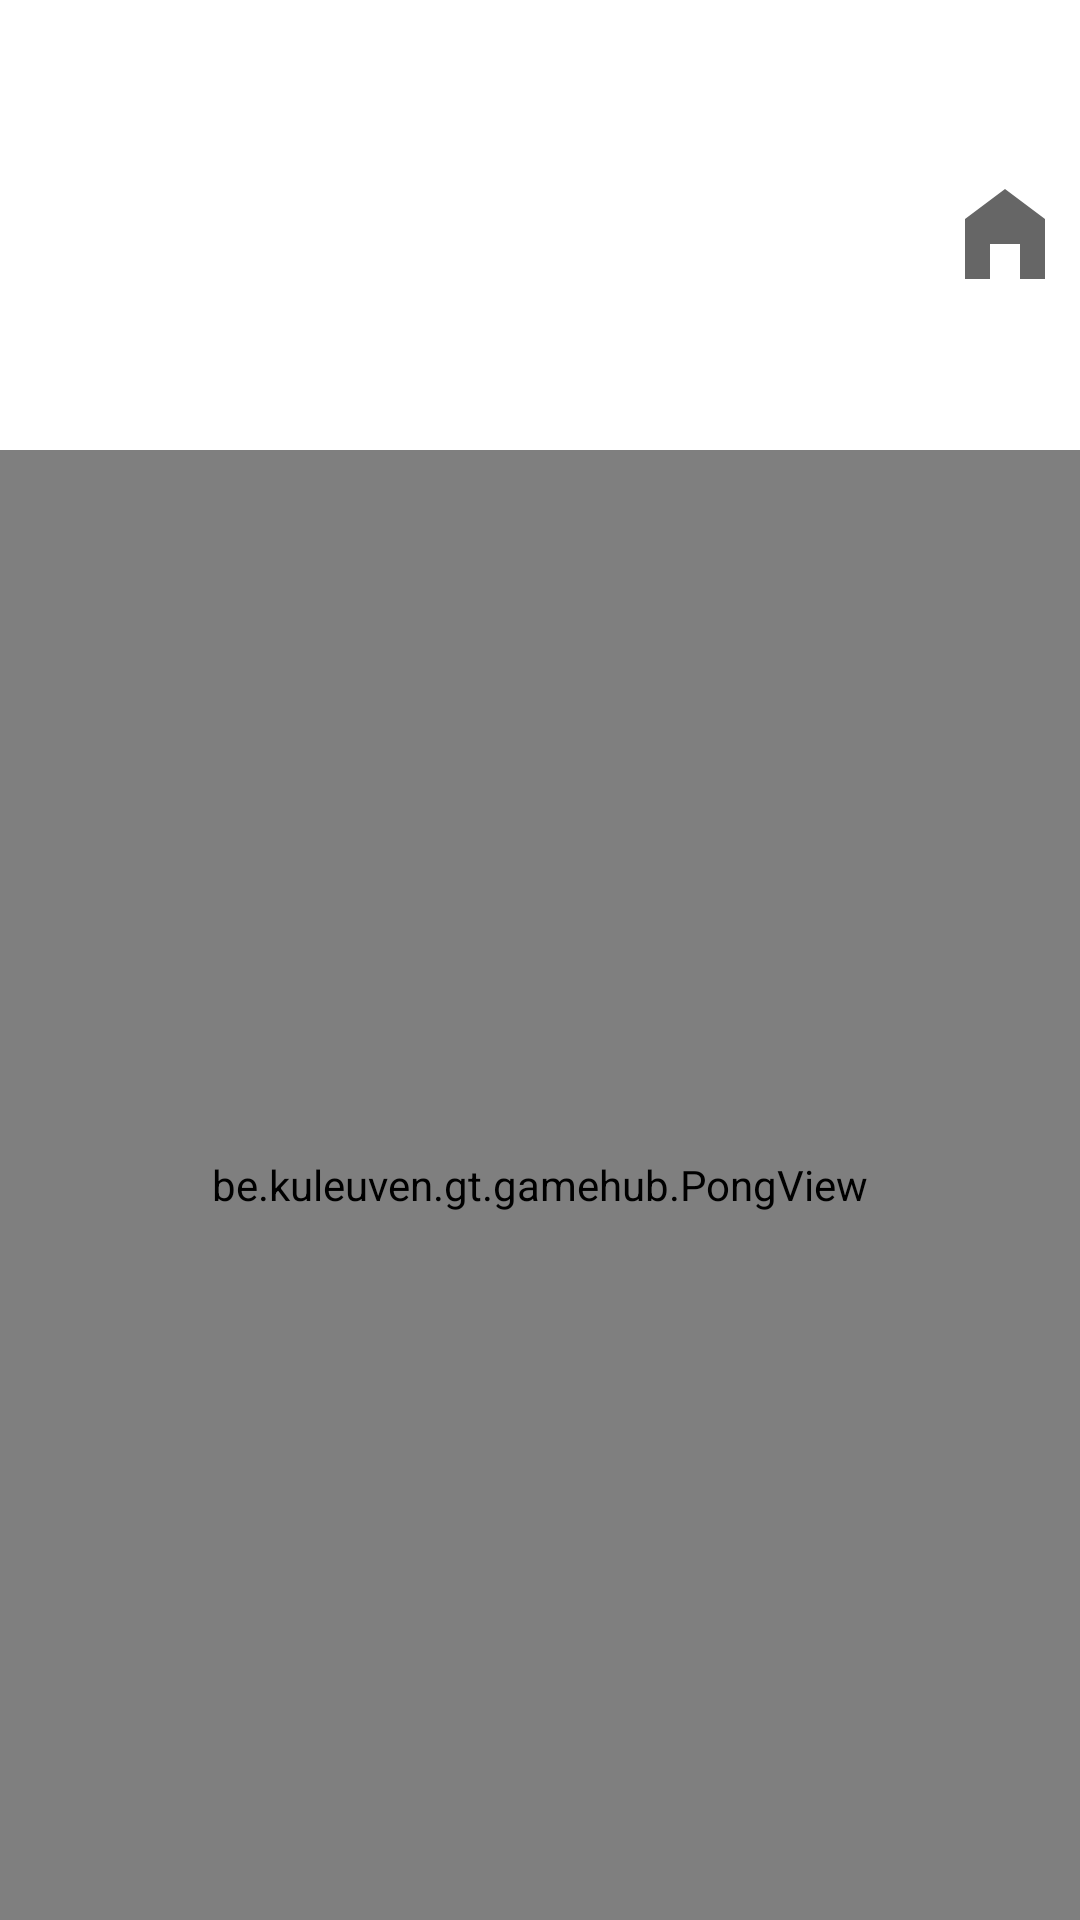

Named icons in this screenshot (1080px×1920px) and their centers, [x,y]:
Return: [1005,234]
